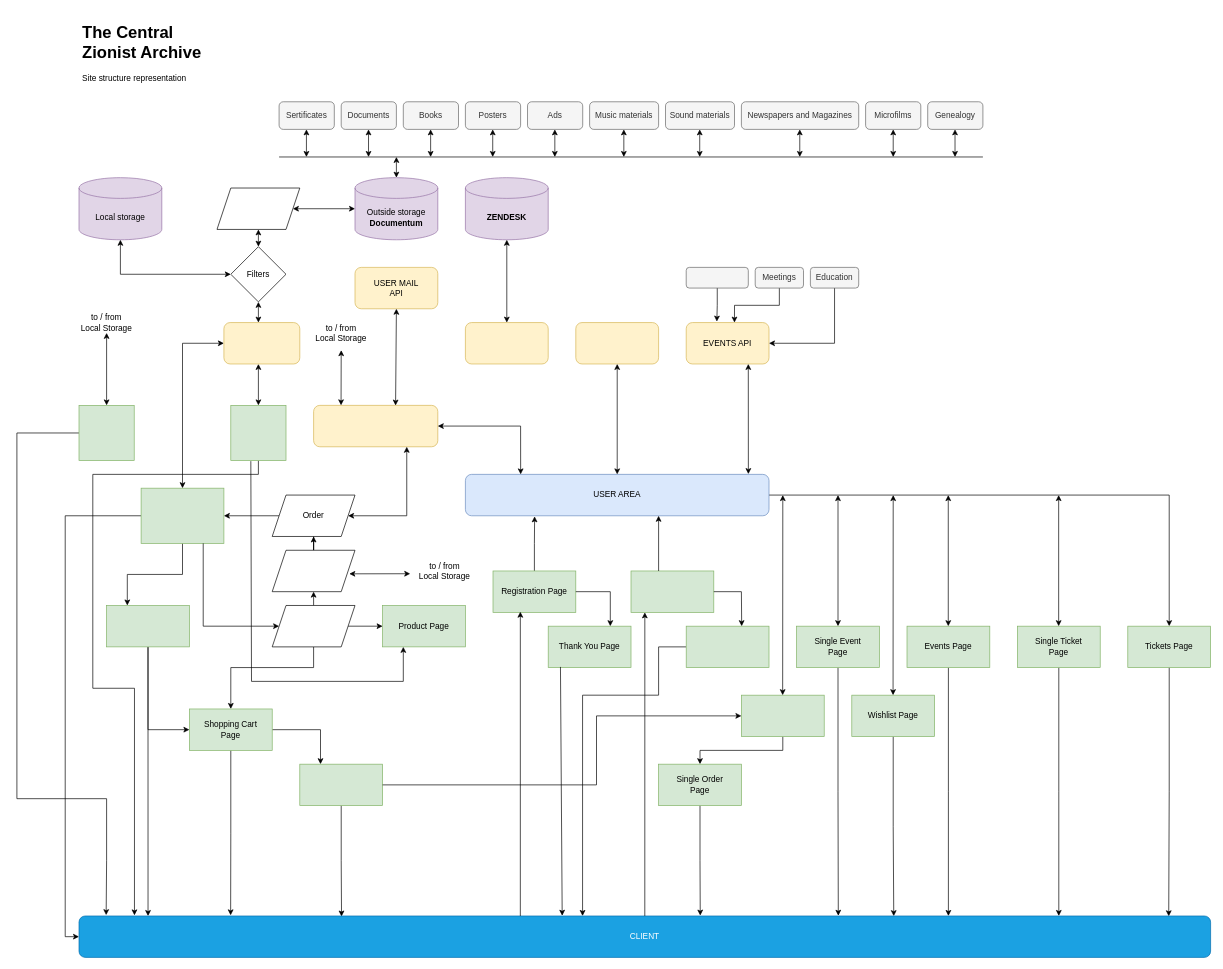
Some shapes in this 1223 by 969 pixel diagram are drawn without their labels. The box of each missing label's shape, as (x1, y1, x2, y2) in pixels:
Account Page: (686, 625, 769, 668)
Checkout Page: (299, 763, 383, 806)
Elastic Search API: (216, 187, 300, 229)
Home page: (78, 405, 134, 461)
LOCAL SEARCH API: (223, 322, 300, 364)
Login Page: (630, 570, 714, 612)
My Orders Page: (741, 694, 824, 737)
PAYMENTS API: (575, 322, 659, 364)
Product generation: (272, 605, 355, 647)
Search Page: (230, 405, 286, 461)
Service Order Page: (106, 605, 189, 647)
SHOP PAGE: (140, 487, 224, 543)
USER COMUNICATION API: (313, 405, 438, 447)
USER TICKETS API: (465, 322, 548, 364)
WooCommerce: (272, 550, 355, 592)
Сonferences: (686, 267, 748, 288)
